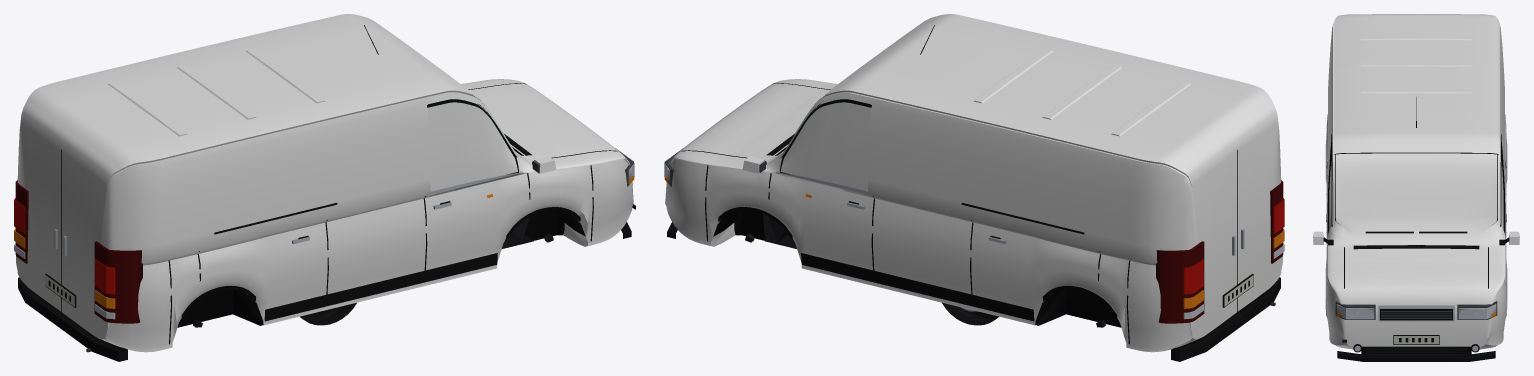
Rendered from van-hi.glb.
3 renders of one model, left to right at view 1: azimuth 30°, elevation 25°; view 2: azimuth 150°, elevation 25°; view 3: azimuth 270°, elevation 25°, orthographic. The views are drawn at different scales.
Visible parts, largest first — view 1: paint, detail, glass, wheel; view 2: paint, detail, glass, wheel; view 3: paint, glass, detail.
Part boxes in pixels (x1,y1,x2,y2): paint: (16, 14, 633, 352); detail: (14, 25, 635, 361); glass: (428, 95, 520, 191); wheel: (300, 302, 356, 325); paint: (665, 14, 1282, 352); detail: (664, 25, 1284, 361); glass: (778, 95, 870, 191); wheel: (942, 302, 998, 325); paint: (1313, 14, 1519, 349); glass: (1329, 153, 1503, 244); detail: (1323, 97, 1509, 361).
Size of the model in its own units: 1.8 by 0.9223 by 0.7656.
